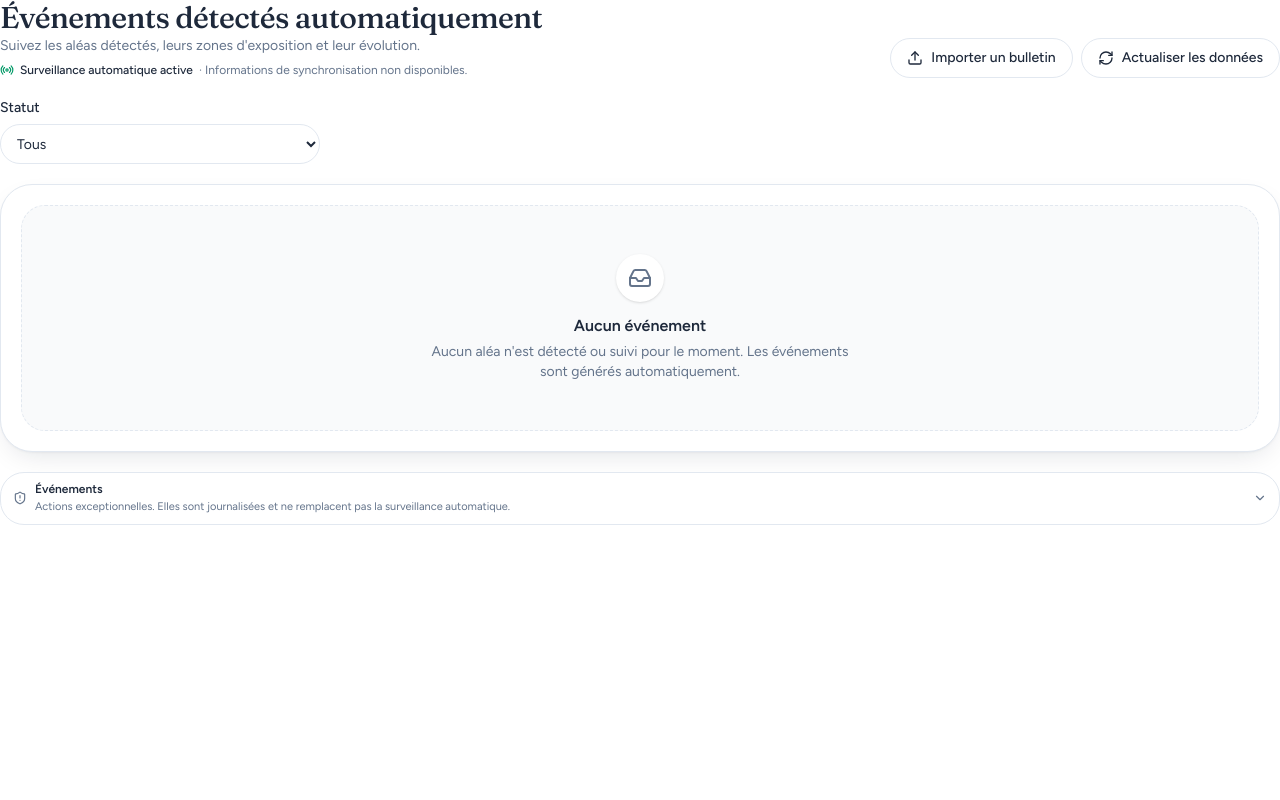
Test case: EvenementsPage — création d’un événement exceptionnel › ouvre la modale de confirmation avec le résumé sans appeler l’API
Click the button "Actions exceptionnelles": (69, 489) [1,473,1279,524]
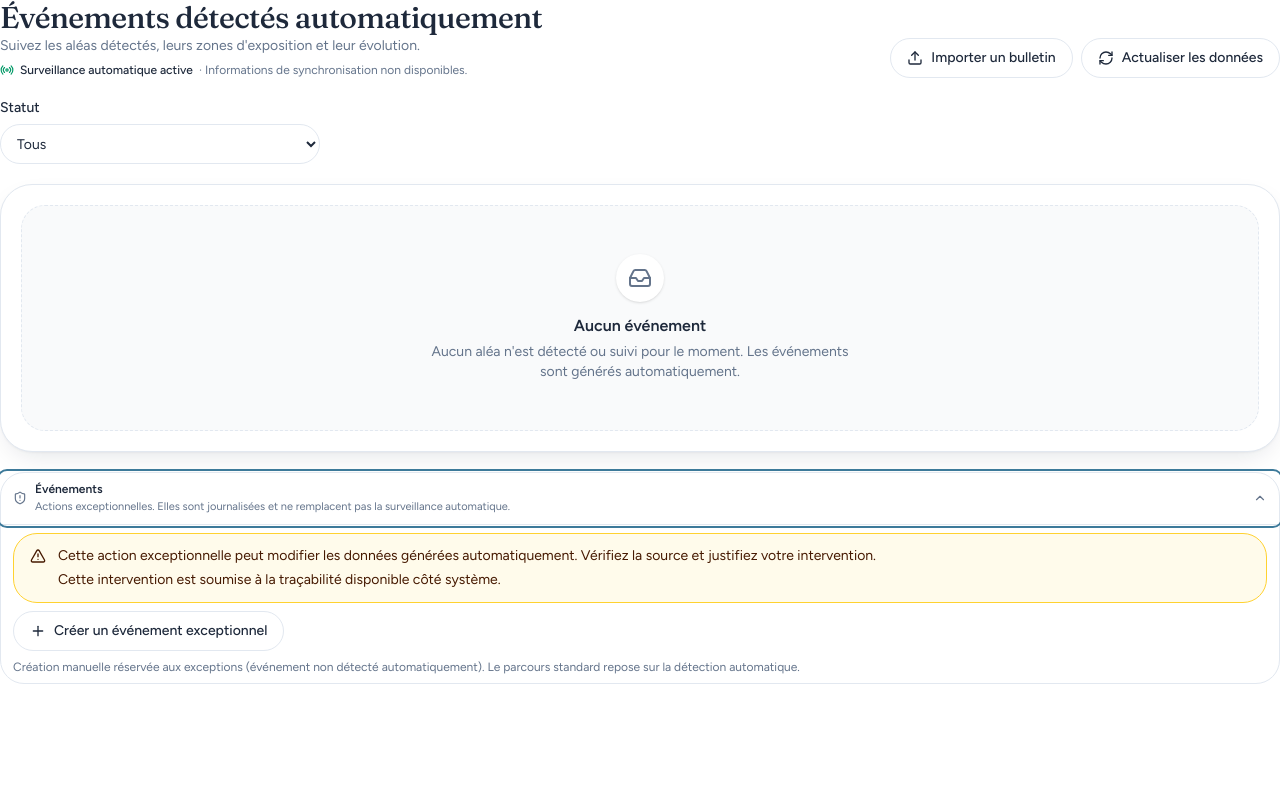
Click the button "Créer un événement exceptionnel": (149, 630) [13,610,284,650]
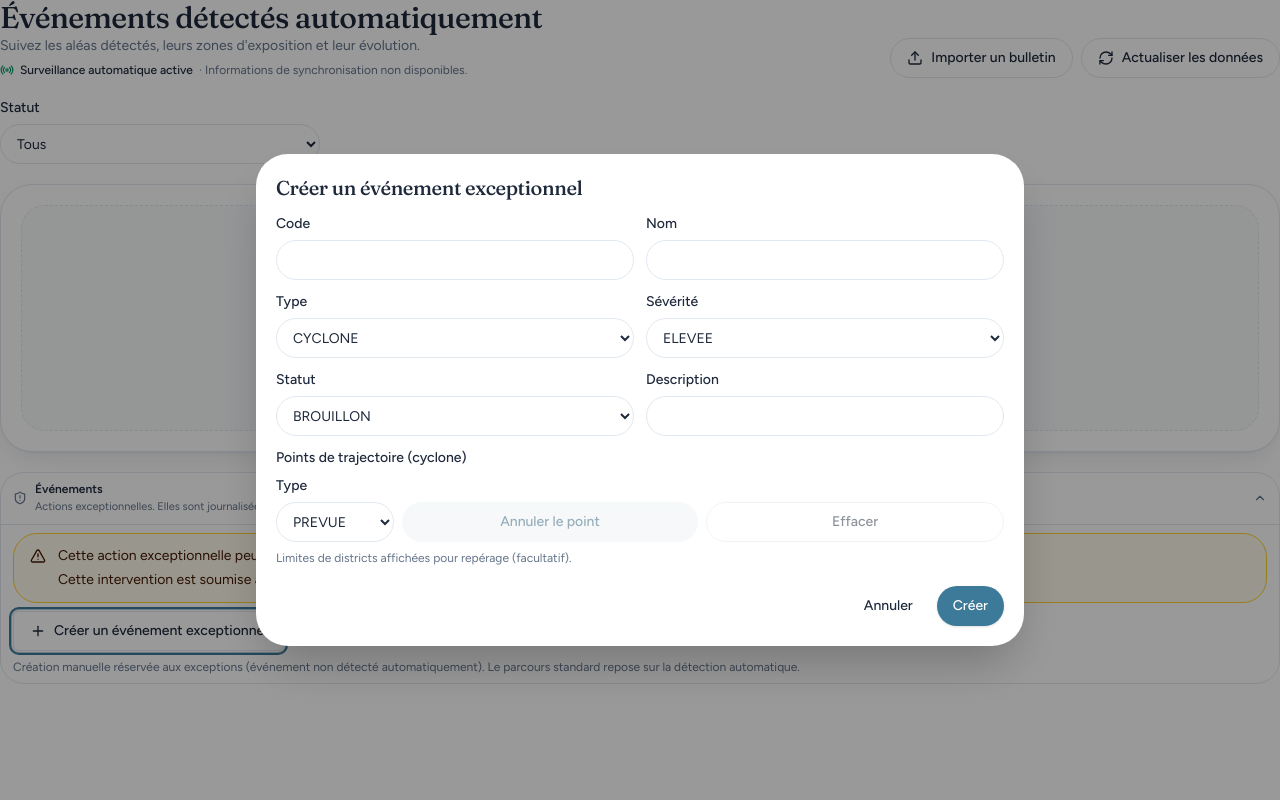
In the field labelled "Code": (455, 260) [276,240,634,280], type "CY-2026-001"
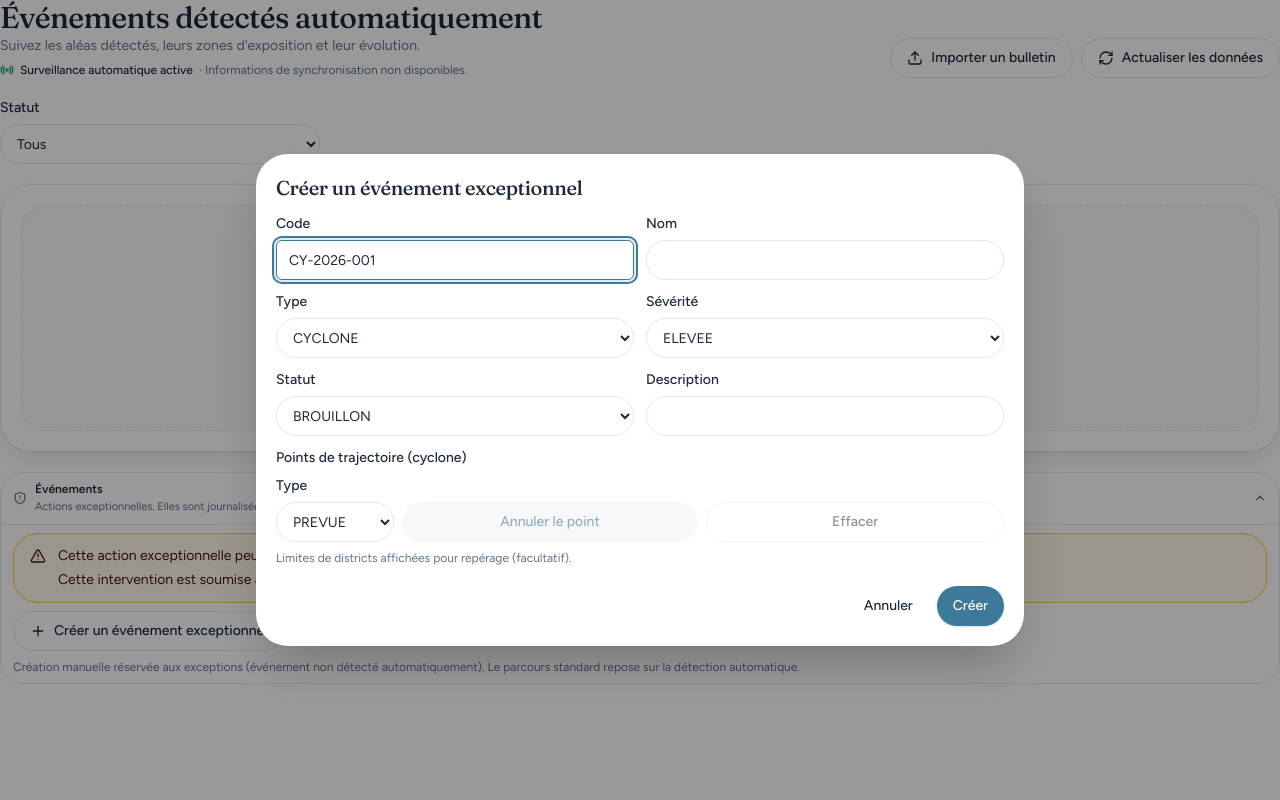
In the field labelled "Nom": (825, 260) [646,240,1004,280], type "Cyclone exceptionnel"
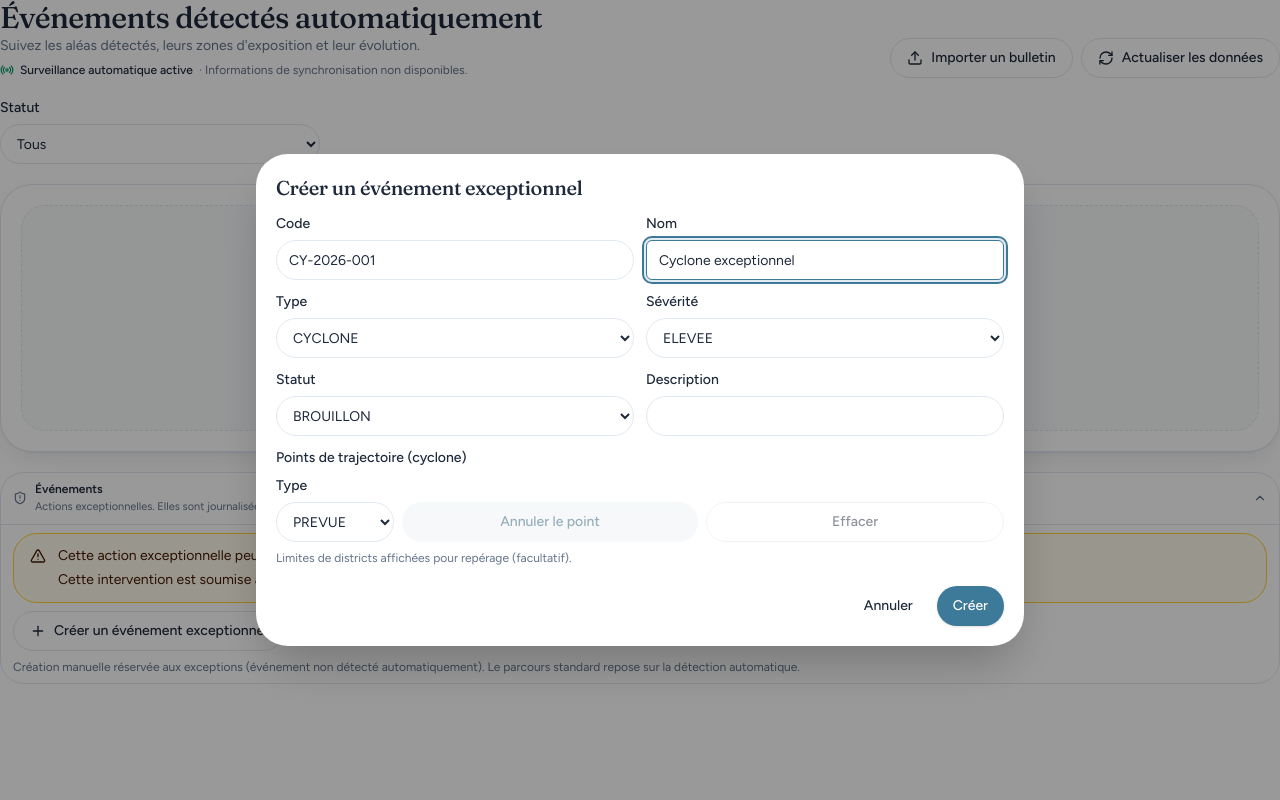
Click the button "Créer": (970, 606) [937,586,1004,626]
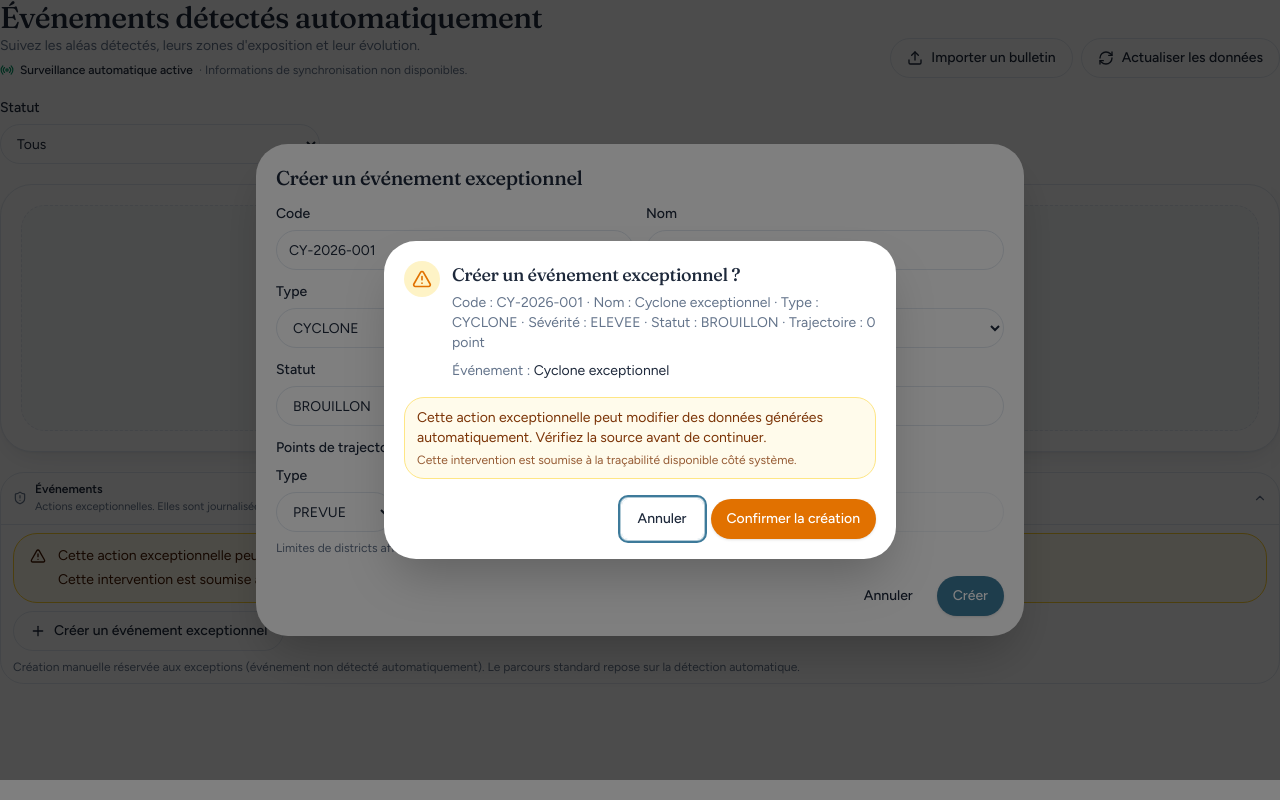
Now the text "Nom : Cyclone exceptionnel" is shown, box [452,294,876,351]
Now the text "Cette action exceptionnelle peut modifier des données générées automatiquement. Vérifiez la source avant de continuer." is shown, box [417,409,823,446]
Now the text "Cette intervention est soumise à la traçabilité disponible côté système." is shown, box [417,452,863,468]
